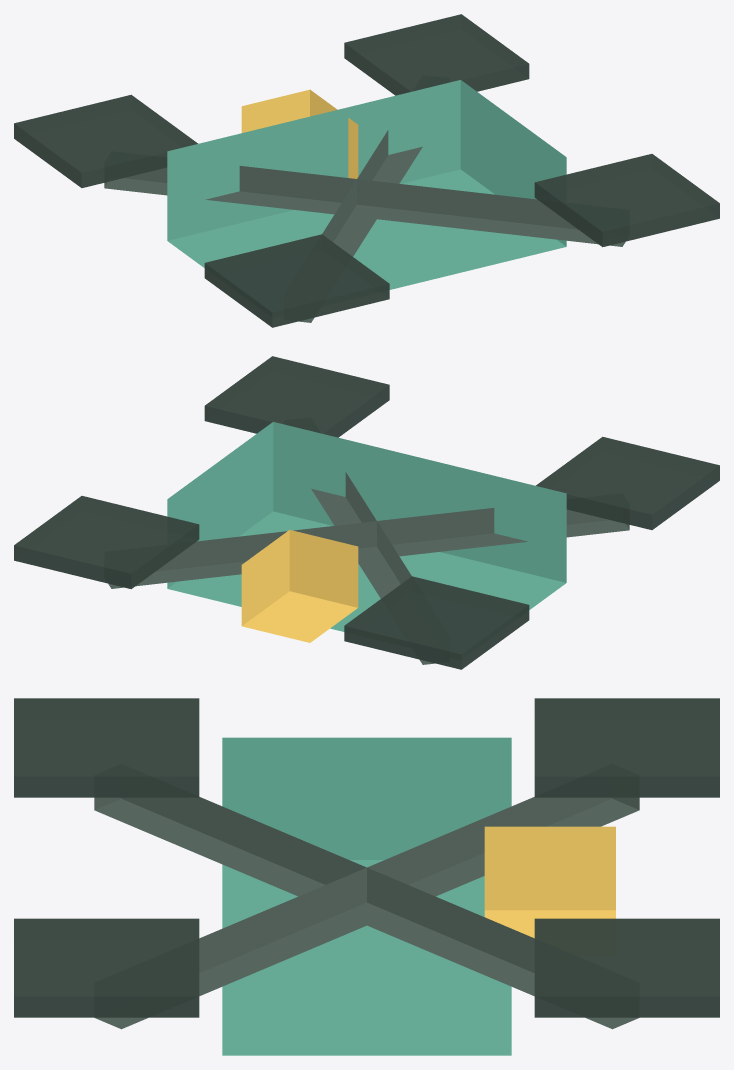
The model's file is logistics-drone.gltf.
3 renders of one model, top to bottom at view 1: azimuth 30°, elevation 25°; view 2: azimuth 150°, elevation 25°; view 3: azimuth 270°, elevation 25°, orthographic. The views are drawn at different scales.
Parts seen in each view (by area): view 1: Body, ArmB, RotorRL, RotorRR, RotorFL, RotorFR, ArmA, Nose; view 2: Body, RotorFL, RotorFR, ArmA, Nose, RotorRL, RotorRR, ArmB; view 3: Body, ArmA, ArmB, RotorFL, RotorRL, RotorFR, RotorRR, Nose.
Part boxes in pixels (x1,y1,x2,y2): Body: [167, 80, 566, 289]; ArmB: [104, 166, 625, 246]; RotorRL: [204, 234, 389, 327]; RotorRR: [534, 154, 719, 247]; RotorFL: [14, 94, 197, 187]; RotorFR: [344, 14, 529, 95]; ArmA: [298, 130, 422, 322]; Nose: [241, 89, 358, 178]; Body: [167, 422, 566, 631]; RotorFL: [344, 576, 529, 669]; RotorFR: [14, 496, 199, 589]; ArmA: [108, 508, 629, 588]; Nose: [241, 530, 358, 642]; RotorRL: [536, 436, 719, 529]; RotorRR: [204, 356, 389, 437]; ArmB: [311, 472, 435, 664]; Body: [222, 737, 511, 1055]; ArmA: [94, 797, 639, 1029]; ArmB: [94, 797, 639, 1029]; RotorFL: [534, 698, 719, 797]; RotorRL: [14, 698, 199, 797]; RotorFR: [534, 918, 719, 1017]; RotorRR: [14, 918, 199, 1017]; Nose: [484, 826, 615, 938].
Bounding box in the file's own units: 3.66 × 0.7 × 3.66.
